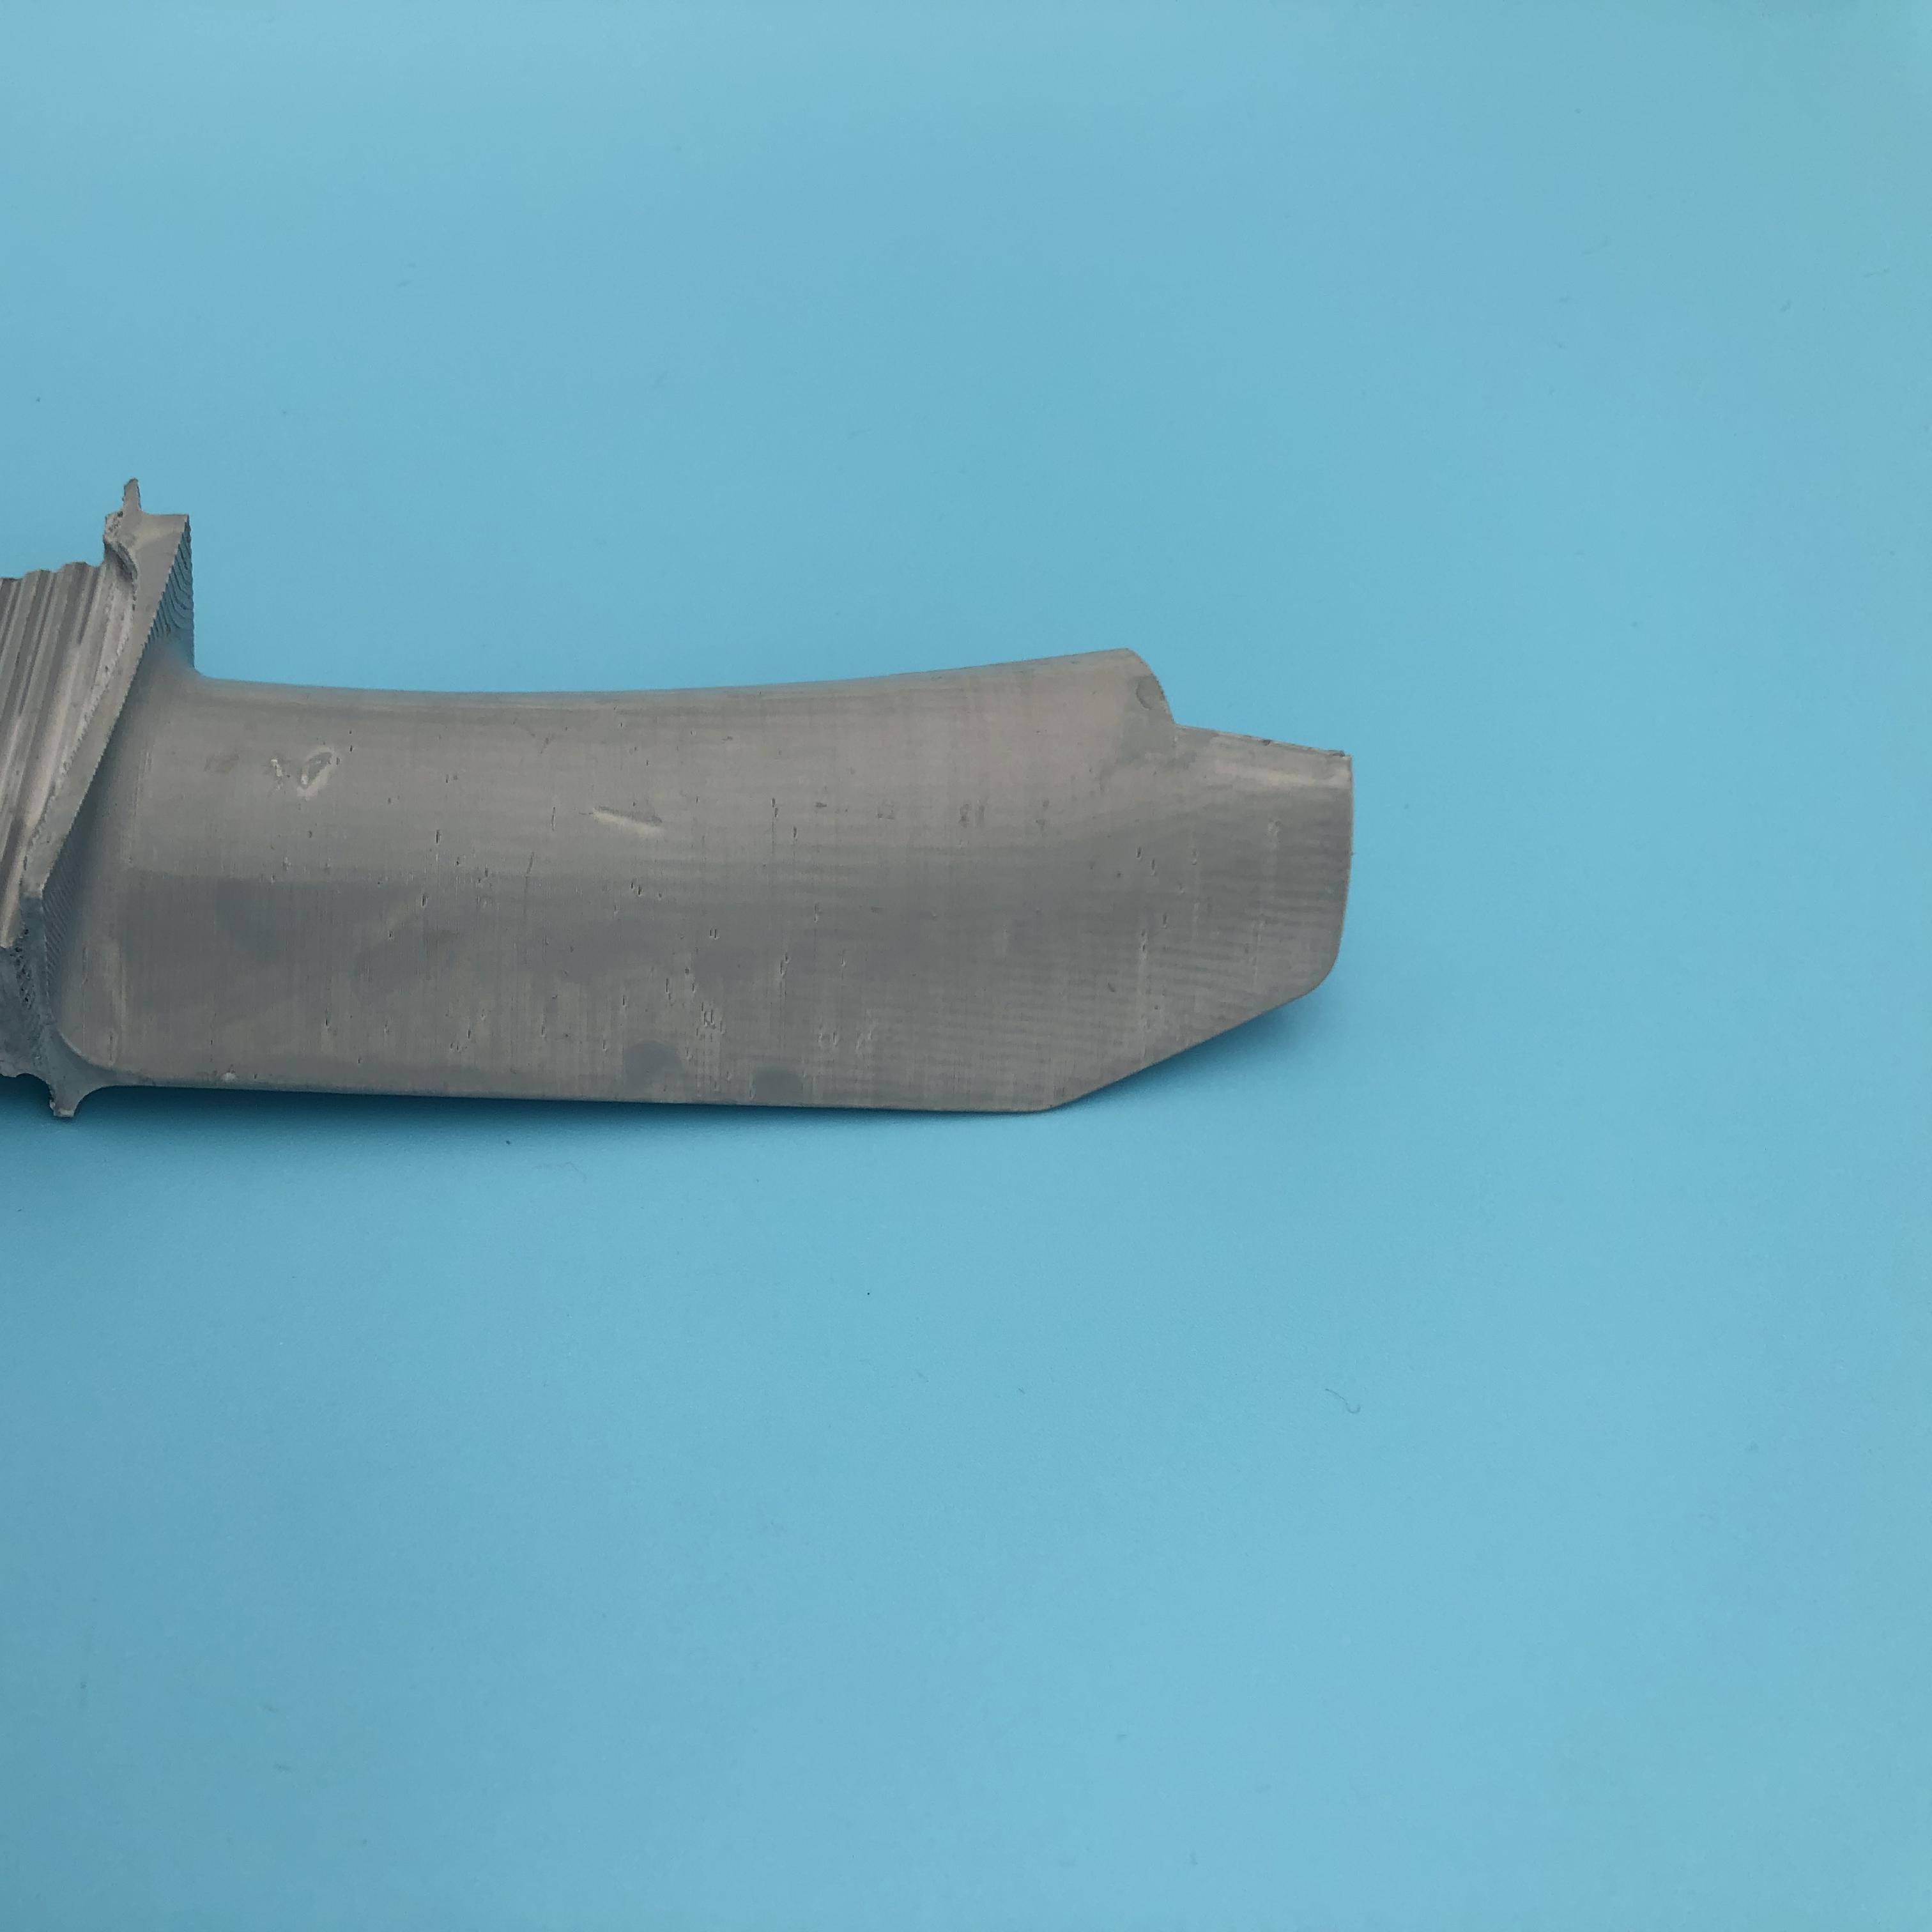fracture: (1141, 642, 1368, 782)
